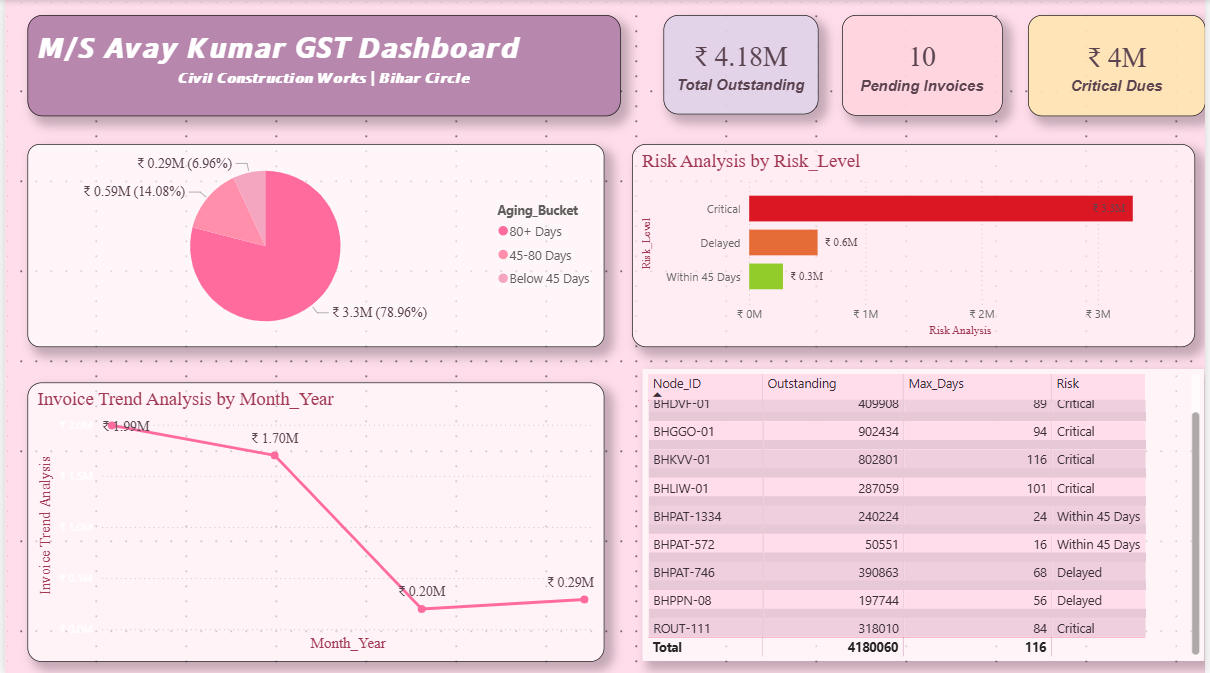

The dashboard page shown, as its layout file describes it:
{"tool":"powerbi","page":{"name":"Page 1","canvas":[1280,720],"ordinal":0},"visuals":[{"type":"card","fields":{"Values":["Sum(Invoice_Data.Total_Amount)"]},"box":[702.5,16.2,165,106.2],"z":0},{"type":"card","fields":{"Values":["Count(Invoice_Data.Invoice_No)"]},"box":[892.3,16,171.1,107.1],"z":1000},{"type":"card","fields":{"Values":["Invoice_Data.critical_sum_of_Amount"]},"box":[1090.5,16,189.5,108.3],"z":2000},{"type":"pieChart","fields":{"Category":["Invoice_Data.Aging_Bucket"],"Y":["Sum(Invoice_Data.Total_Amount)"]},"box":[24.6,153.8,615.4,216.6],"z":3000},{"type":"barChart","fields":{"Category":["Invoice_Data.Risk_Level"],"Y":["Sum(Invoice_Data.Total_Amount)"]},"box":[669.5,153.8,600.6,216.6],"z":4000},{"type":"lineChart","fields":{"Y":["Sum(Invoice_Data.Total_Amount)"],"Category":["Invoice_Data.Month_Year"]},"box":[24.6,407.4,615.4,297.8],"z":5000},{"type":"tableEx","fields":{"Values":["Invoice_Data.Node_ID","Sum(Invoice_Data.Total_Amount)","Max(Invoice_Data.Aging_Days)","Invoice_Data.Risk_Level"]},"box":[680.6,393.8,599.4,311.4],"z":6000},{"type":"textbox","box":[24.6,16,632.6,108.3],"z":7000}]}

Visuals, with their boxes in screenshot pixels (x1, y1, x2, y2), scaled from the page's 1280x720 canvas onto the 1210x673 screenshot:
card - Sum(Invoice_Data.Total_Amount): <region>664, 15, 820, 114</region>
card - Count(Invoice_Data.Invoice_No): <region>844, 15, 1005, 115</region>
card - Invoice_Data.critical_sum_of_Amount: <region>1031, 15, 1209, 116</region>
pieChart - Invoice_Data.Aging_Bucket x Sum(Invoice_Data.Total_Amount): <region>23, 144, 605, 346</region>
barChart - Invoice_Data.Risk_Level x Sum(Invoice_Data.Total_Amount): <region>633, 144, 1201, 346</region>
lineChart - Sum(Invoice_Data.Total_Amount) x Invoice_Data.Month_Year: <region>23, 381, 605, 659</region>
tableEx - Invoice_Data.Node_ID x Sum(Invoice_Data.Total_Amount): <region>643, 368, 1209, 659</region>
textbox: <region>23, 15, 621, 116</region>
